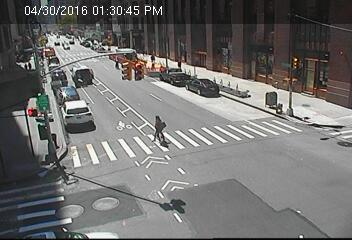neg: (274, 175, 303, 214), (106, 27, 132, 61), (28, 85, 53, 119), (61, 95, 85, 127), (236, 136, 257, 164), (54, 190, 75, 218), (166, 188, 187, 215), (292, 56, 313, 83), (213, 41, 233, 68), (93, 181, 113, 208), (47, 29, 65, 54), (323, 114, 341, 138), (262, 90, 279, 112), (155, 32, 170, 52), (205, 73, 219, 92)
pos: (147, 111, 172, 144)
